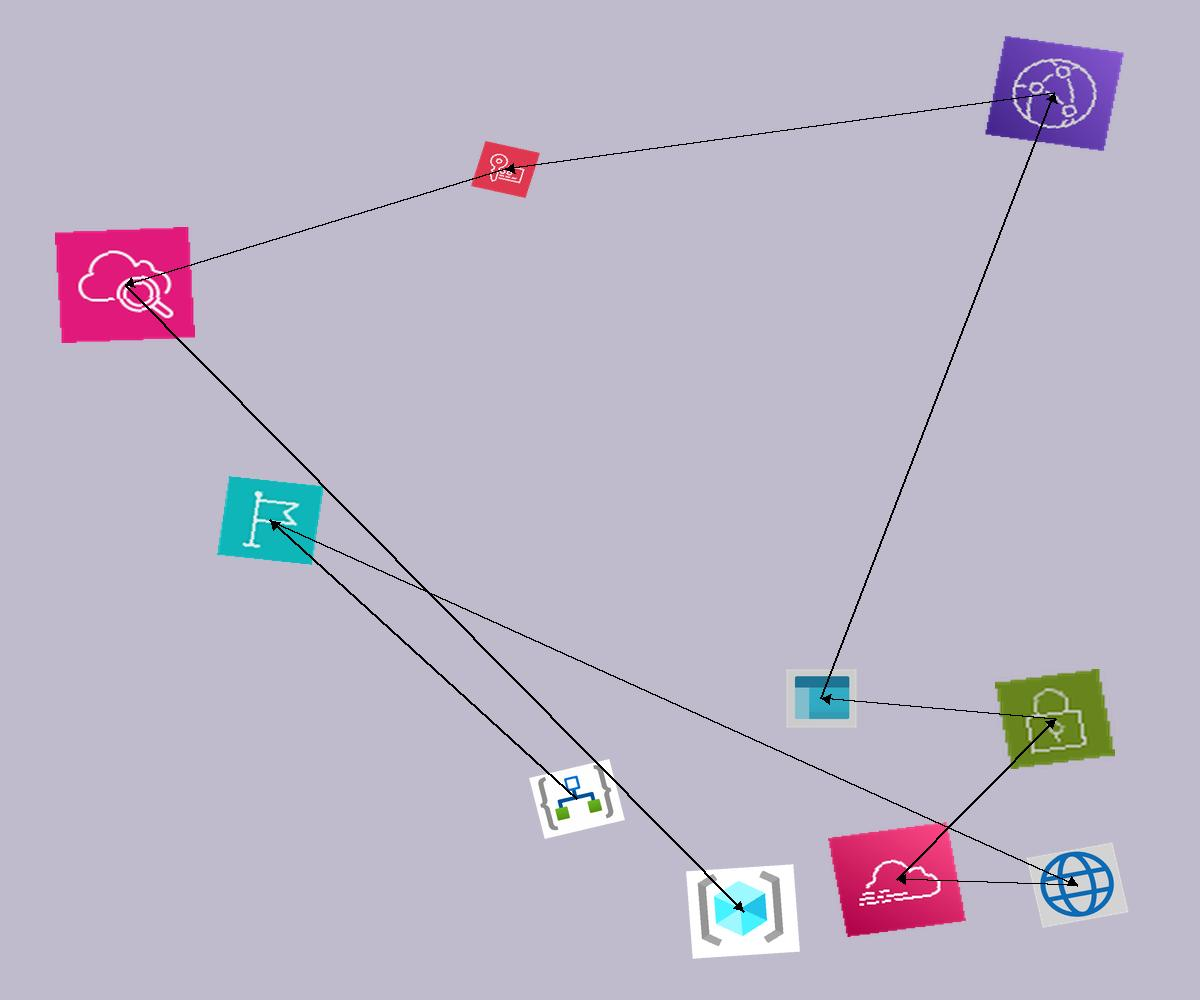AWS-CloudFront: (984, 35, 1125, 152)
AWS-CloudTrail: (828, 822, 966, 937)
AWS-CloudWatch: (55, 227, 195, 343)
AWS-Key-Management-Service: (471, 141, 540, 198)
AWS-Public-subnet: (995, 669, 1115, 769)
AWS-Region: (217, 476, 324, 565)
Azure_http: (1026, 842, 1129, 928)
Azure_integration-204-Logic-Apps: (529, 759, 625, 839)
Azure_management-portal: (786, 669, 857, 728)
Azure_resource_group: (686, 864, 800, 959)
